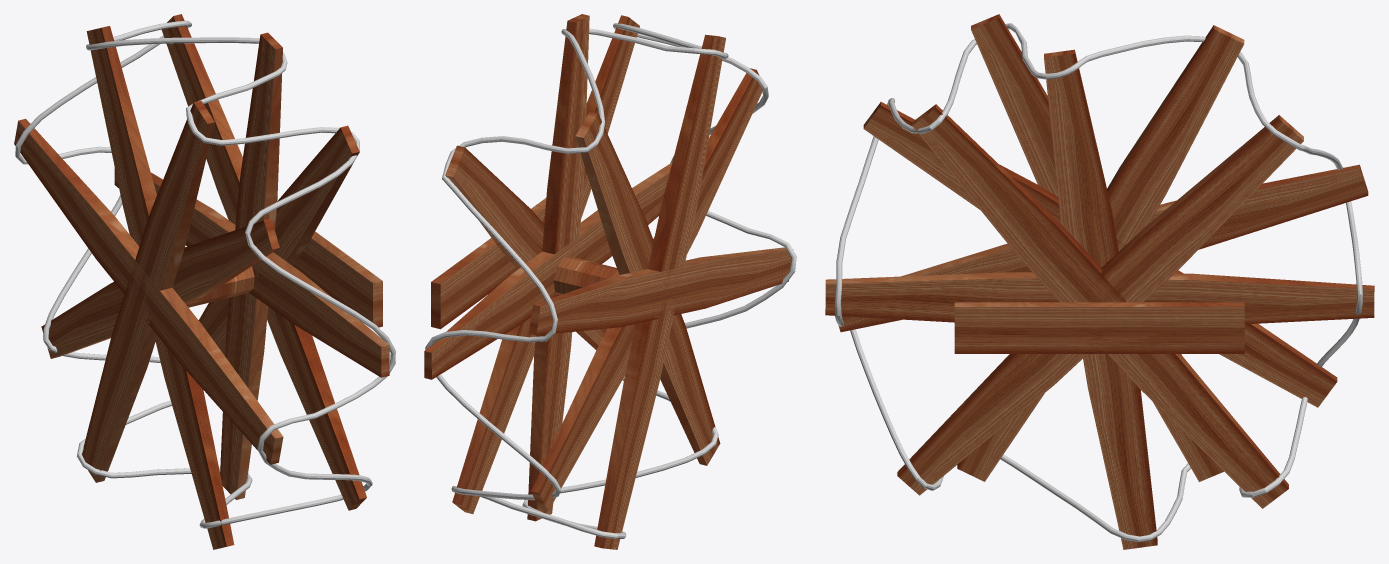
Rendered from Charkha 1.fbx.
3 renders of one model, left to right at view 1: azimuth 30°, elevation 25°; view 2: azimuth 150°, elevation 25°; view 3: azimuth 270°, elevation 25°, orthographic. The views are drawn at different scales.
Visible parts, largest first — view 1: polySurface53; view 2: polySurface53; view 3: polySurface53.
Boxes of the visible parts, <box> form: polySurface53: <box>14,14,395,549</box>; polySurface53: <box>424,14,796,549</box>; polySurface53: <box>825,14,1374,549</box>.
Bounding box in the file's own units: 4.08 × 10.56 × 10.59.
